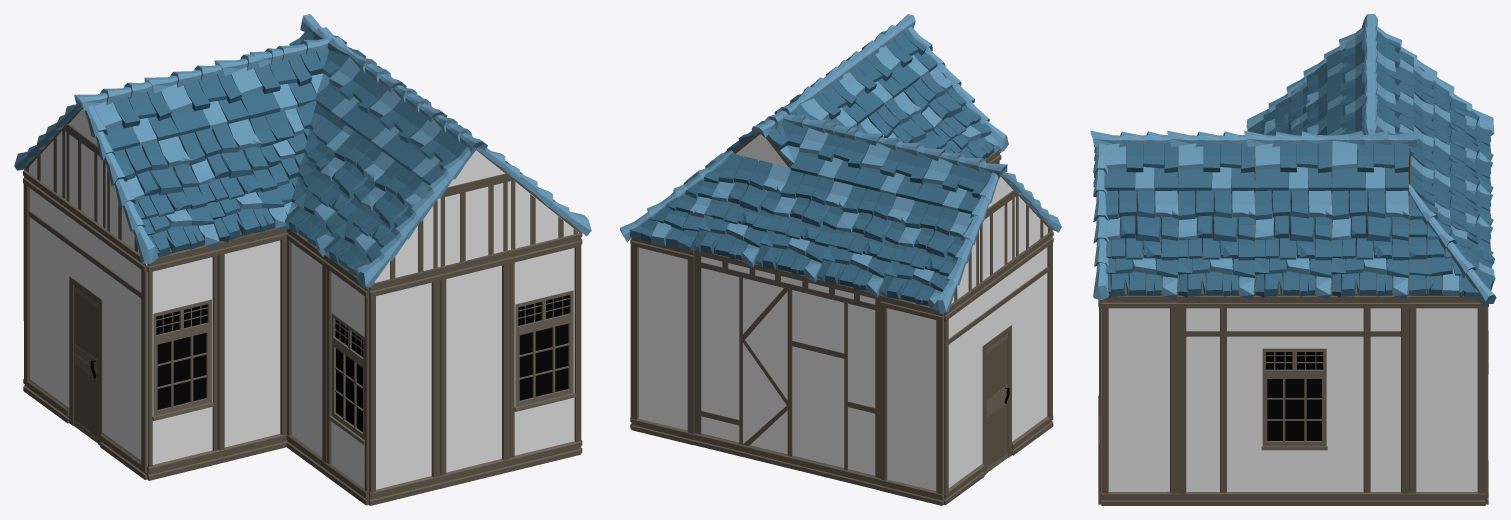
File: house_11_full.glb
The picture shows the model from 3 angles, left to right: view 1: azimuth 30°, elevation 25°; view 2: azimuth 150°, elevation 25°; view 3: azimuth 270°, elevation 25°; orthographic projection. The views are drawn at different scales.
Parts seen in each view (by area): view 1: DOOR_05_2, WALL_03_8, WALL_03_7, WINDOW_04_5, WINDOW_04_3, WALL_03_10, WINDOW_04_4, WALL_03_9, ROOF_base_4, ROOF_base_3, ROOF_inner_corner_3, ROOF_base_5 (+29 smaller); view 2: WALL_05_2, DOOR_05_2, WALL_03_3, WALL_03_4, ROOF_base_14, ROOF_base_13, ROOF_base_12, ROOF_base_11, ROOF_corner_out_2, ROOF_base_6, ROOF_base_small_15, ROOF_base_small_16 (+23 smaller); view 3: WINDOW_03_2, WALL_03_6, WALL_03_5, ROOF_base_8, ROOF_base_9, ROOF_base_10, ROOF_base_7, ROOF_corner_out_2, ROOF_base_small_13, ROOF_base_small_12, ROOF_base_small_11, ROOF_base_small_10 (+24 smaller).
Boxes of the visible parts, box(x1,y1,x2,y2) form: DOOR_05_2: box(23, 170, 147, 479); WALL_03_8: box(369, 267, 440, 505); WALL_03_7: box(439, 250, 510, 488); WINDOW_04_5: box(147, 245, 219, 480); WINDOW_04_3: box(509, 233, 581, 471); WALL_03_10: box(217, 228, 287, 463); WINDOW_04_4: box(325, 255, 368, 505); WALL_03_9: box(286, 228, 326, 475); ROOF_base_4: box(179, 119, 287, 241); ROOF_base_3: box(114, 136, 219, 258); ROOF_inner_corner_3: box(250, 100, 353, 215); ROOF_base_5: box(284, 131, 394, 256); WALL_05_2: box(693, 249, 880, 490); DOOR_05_2: box(943, 231, 1053, 505); WALL_03_3: box(880, 294, 943, 505); WALL_03_4: box(631, 237, 694, 445); ROOF_base_14: box(692, 153, 790, 267); ROOF_base_13: box(754, 170, 852, 282); ROOF_base_12: box(817, 185, 914, 297); ROOF_base_11: box(879, 201, 973, 311); ROOF_corner_out_2: box(620, 150, 734, 251); ROOF_base_6: box(904, 67, 999, 158); ROOF_base_small_15: box(852, 143, 931, 200); ROOF_base_small_16: box(790, 127, 869, 185); WINDOW_03_2: box(1178, 295, 1408, 505); WALL_03_6: box(1101, 295, 1178, 505); WALL_03_5: box(1409, 295, 1485, 505); ROOF_base_8: box(1177, 190, 1255, 299); ROOF_base_9: box(1254, 188, 1332, 299); ROOF_base_10: box(1331, 190, 1409, 299); ROOF_base_7: box(1101, 190, 1178, 299); ROOF_corner_out_2: box(1408, 184, 1496, 307); ROOF_base_small_13: box(1332, 140, 1408, 193); ROOF_base_small_12: box(1255, 140, 1332, 193); ROOF_base_small_11: box(1178, 142, 1255, 193); ROOF_base_small_10: box(1104, 142, 1178, 193).
Bounding box in the file's own units: 5.35 × 4.65 × 5.28.
1 material, 1 textured.
